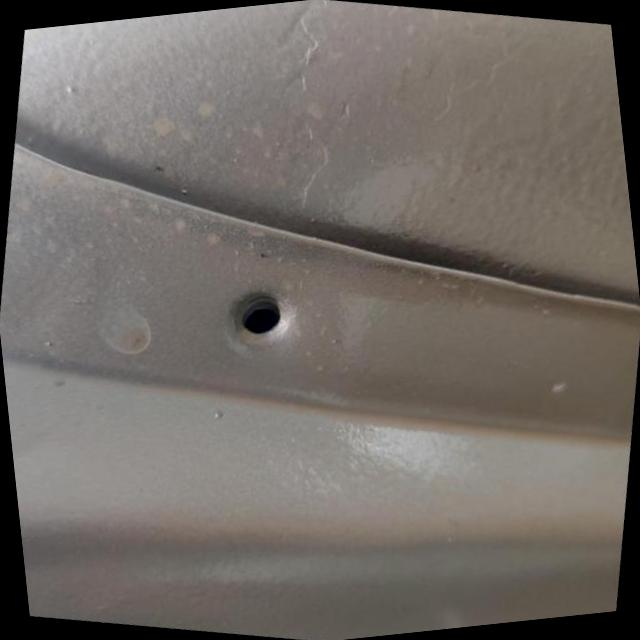Missing Fastener: (213, 280, 305, 366)
